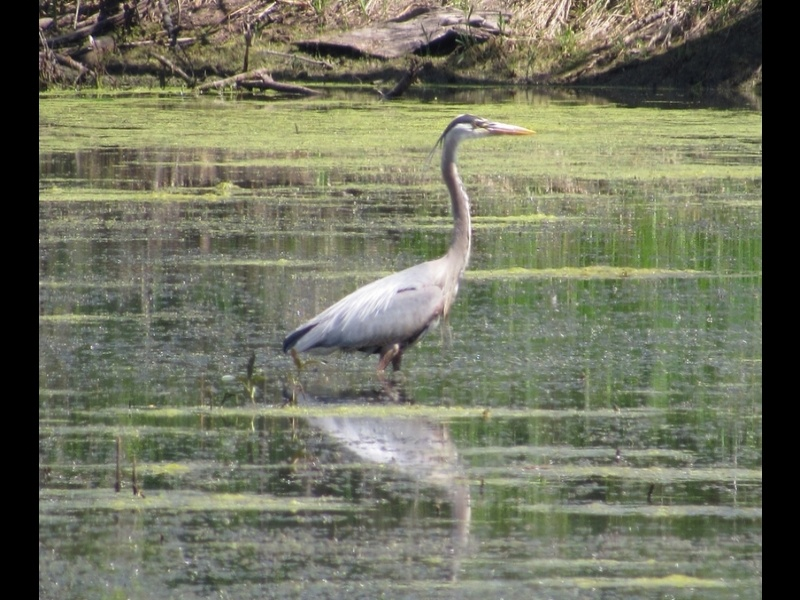heron: (277, 111, 539, 411)
